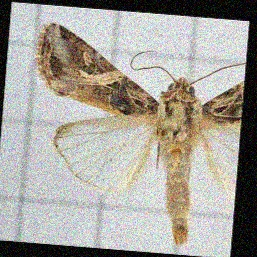Spodoptera litura: (29, 28, 239, 241)
